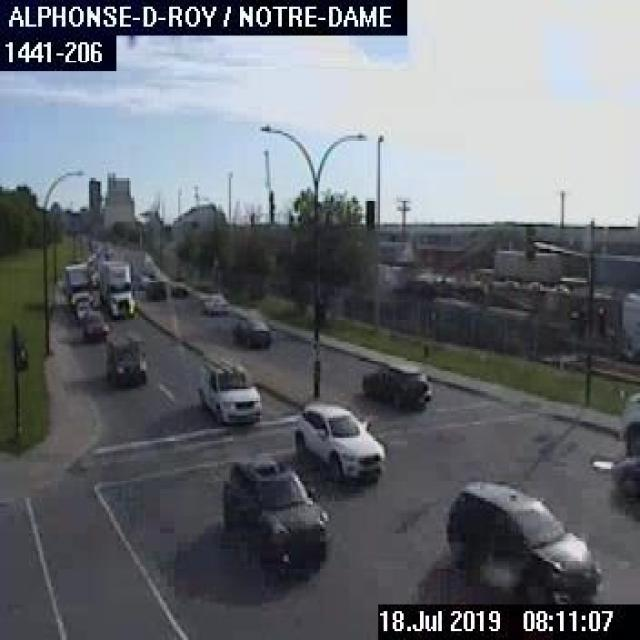vehicle: (442, 473, 598, 602), (220, 454, 331, 574), (292, 396, 390, 486), (196, 356, 262, 424), (360, 360, 435, 409), (93, 255, 140, 320), (607, 418, 638, 502), (104, 337, 150, 387), (227, 304, 269, 346), (65, 257, 94, 310), (81, 308, 108, 343), (198, 289, 227, 313)
